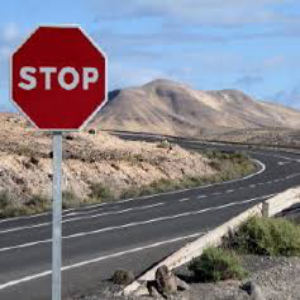STOP_SIGN: (9, 24, 107, 131)
